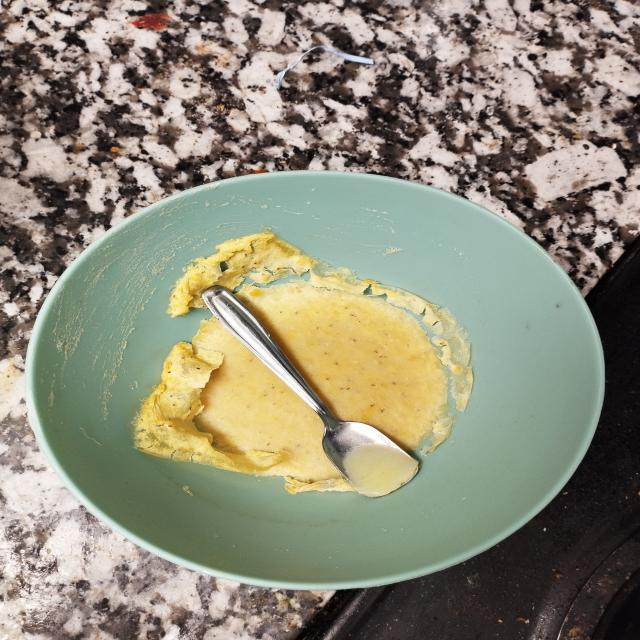Spoon: (184, 280, 446, 504)
